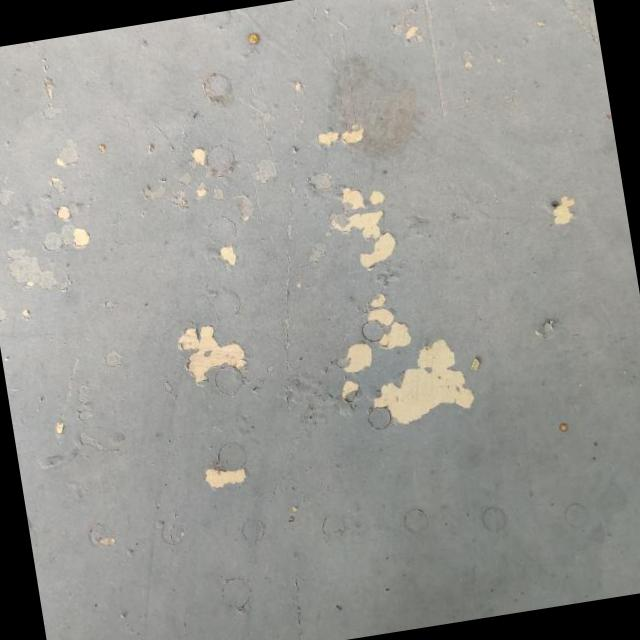Paint-off: (335, 294, 478, 440), (315, 185, 399, 275), (172, 324, 247, 398), (190, 440, 253, 506), (313, 107, 370, 156), (540, 187, 590, 239)
